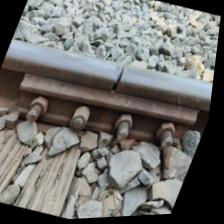person: (91, 52, 146, 104)
